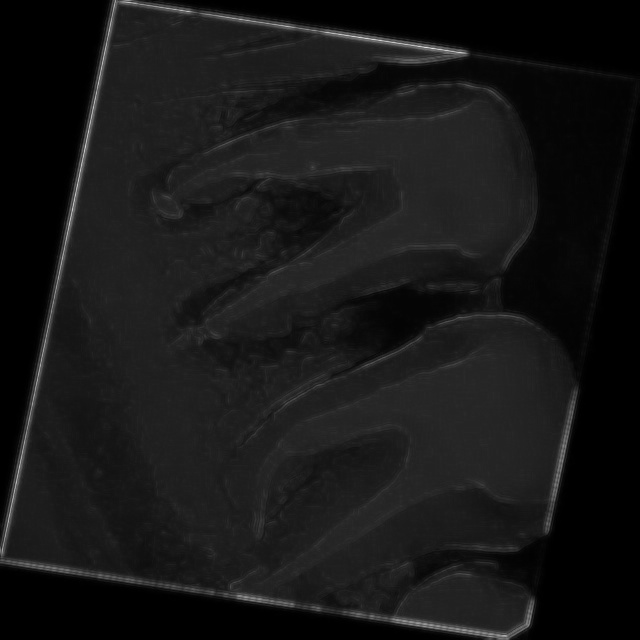Class 0- No endodontic treatment: (176, 259, 574, 638)
Class 1- complete endodontic treatment: (124, 22, 556, 399)
